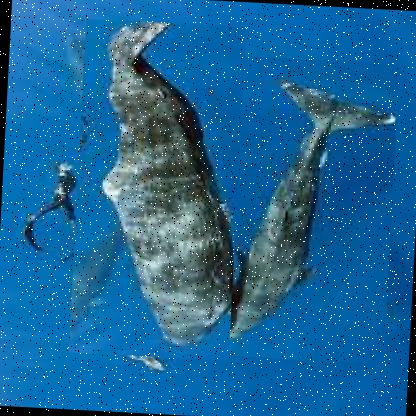sperm_whale: (68, 18, 245, 360), (215, 54, 399, 363)
